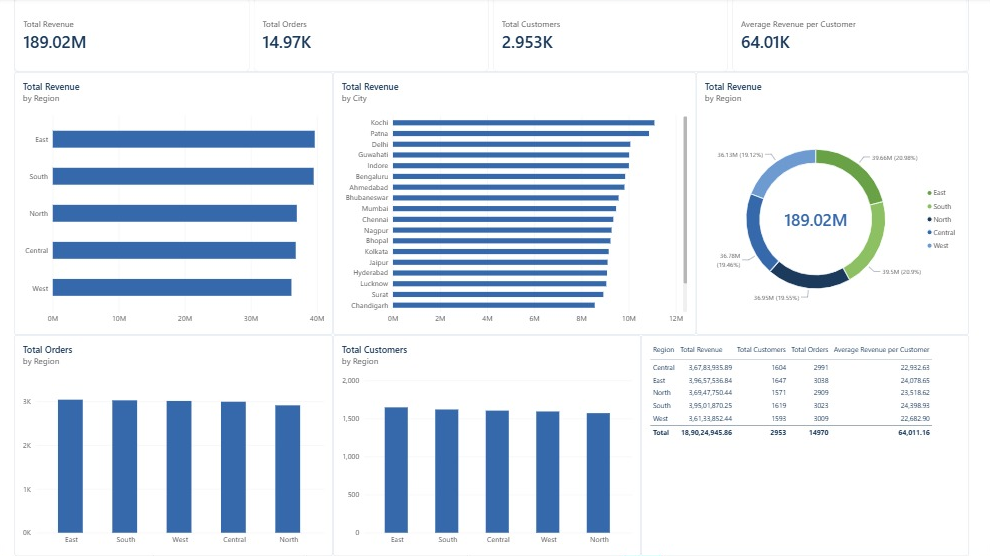

Layout of this report page (visuals, bound fields, positions):
{"tool":"powerbi","page":{"name":"Regional Performance","canvas":[1920,1080],"ordinal":2},"visuals":[{"type":"cardVisual","fields":{"Data":["Fact_Sales.Total Revenue","Fact_Sales.Total Orders","Fact_Sales.Total Customers","Fact_Sales.Average Revenue per Customer"]},"box":[29,0,1848.4,143.2],"z":0},{"type":"clusteredBarChart","fields":{"Category":["Fact_Sales.Region"],"Y":["Fact_Sales.Total Revenue"]},"box":[29,143.2,617.4,509],"z":1},{"type":"clusteredColumnChart","fields":{"Category":["Fact_Sales.Region"],"Y":["Fact_Sales.Total Orders"]},"box":[29,652.3,617.4,427.7],"z":2},{"type":"clusteredBarChart","fields":{"Category":["Fact_Sales.City"],"Y":["Fact_Sales.Total Revenue"]},"box":[646.5,143.2,702.6,509],"z":3},{"type":"clusteredColumnChart","fields":{"Category":["Fact_Sales.Region"],"Y":["Fact_Sales.Total Customers"]},"box":[646.5,652.3,596.1,427.7],"z":4},{"type":"donutChart","fields":{"Category":["Fact_Sales.Region"],"Y":["Fact_Sales.Total Revenue"]},"box":[1349,143.2,528.4,509],"z":5},{"type":"tableEx","fields":{"Values":["Fact_Sales.Region","Fact_Sales.Total Revenue","Fact_Sales.Total Customers","Fact_Sales.Total Orders","Fact_Sales.Average Revenue per Customer"]},"box":[1242.6,652.3,634.8,427.7],"z":6}]}

Visuals, with their boxes in screenshot pixels (x1, y1, x2, y2), scaled from the page's 1920x1080 canvas onto the 990x556 screenshot:
cardVisual - Fact_Sales.Total Revenue x Fact_Sales.Total Orders: pyautogui.locateOnScreen(15, 0, 968, 74)
clusteredBarChart - Fact_Sales.Region x Fact_Sales.Total Revenue: pyautogui.locateOnScreen(15, 74, 333, 336)
clusteredColumnChart - Fact_Sales.Region x Fact_Sales.Total Orders: pyautogui.locateOnScreen(15, 336, 333, 555)
clusteredBarChart - Fact_Sales.City x Fact_Sales.Total Revenue: pyautogui.locateOnScreen(333, 74, 696, 336)
clusteredColumnChart - Fact_Sales.Region x Fact_Sales.Total Customers: pyautogui.locateOnScreen(333, 336, 641, 555)
donutChart - Fact_Sales.Region x Fact_Sales.Total Revenue: pyautogui.locateOnScreen(696, 74, 968, 336)
tableEx - Fact_Sales.Region x Fact_Sales.Total Revenue: pyautogui.locateOnScreen(641, 336, 968, 555)
